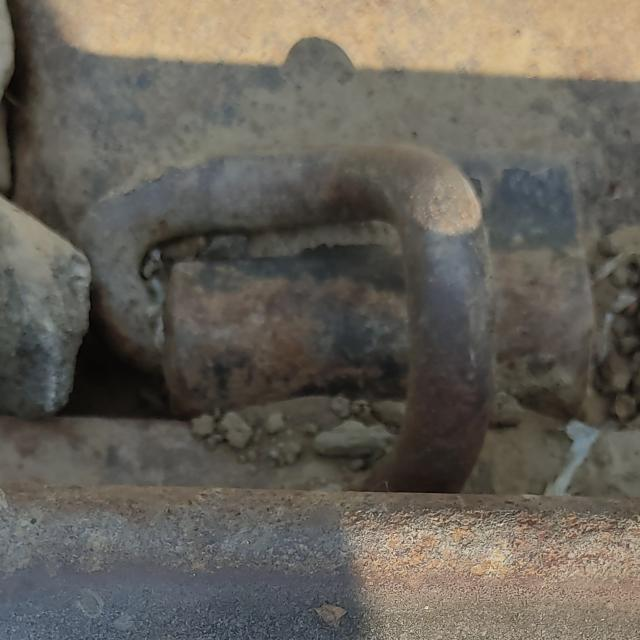track_bolt: (73, 130, 500, 489)
